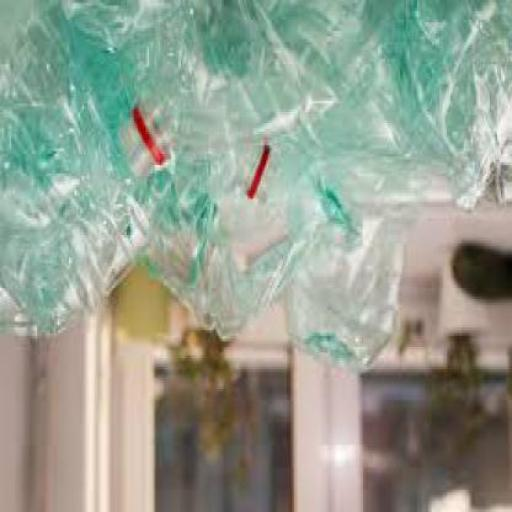plastic: (0, 2, 156, 344), (118, 3, 400, 182), (52, 3, 274, 210), (372, 3, 510, 219), (140, 199, 313, 344), (281, 218, 406, 372), (281, 140, 434, 262)
